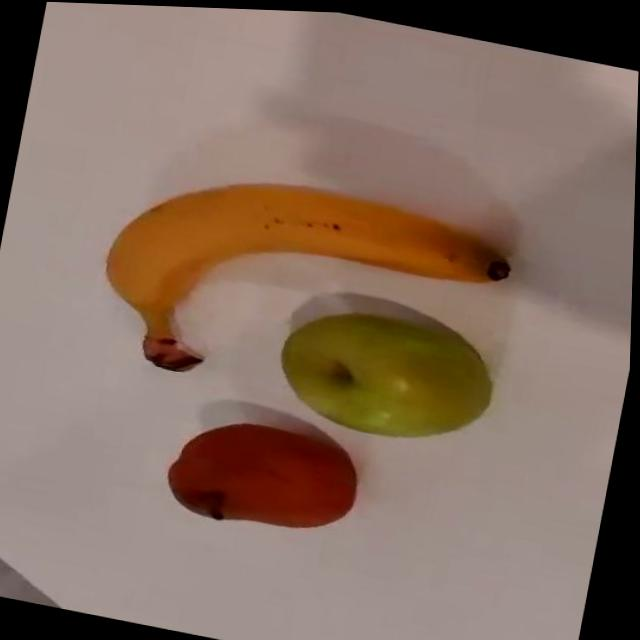Apple: (270, 278, 508, 452), (163, 389, 372, 543)
Banana: (89, 147, 522, 428)
